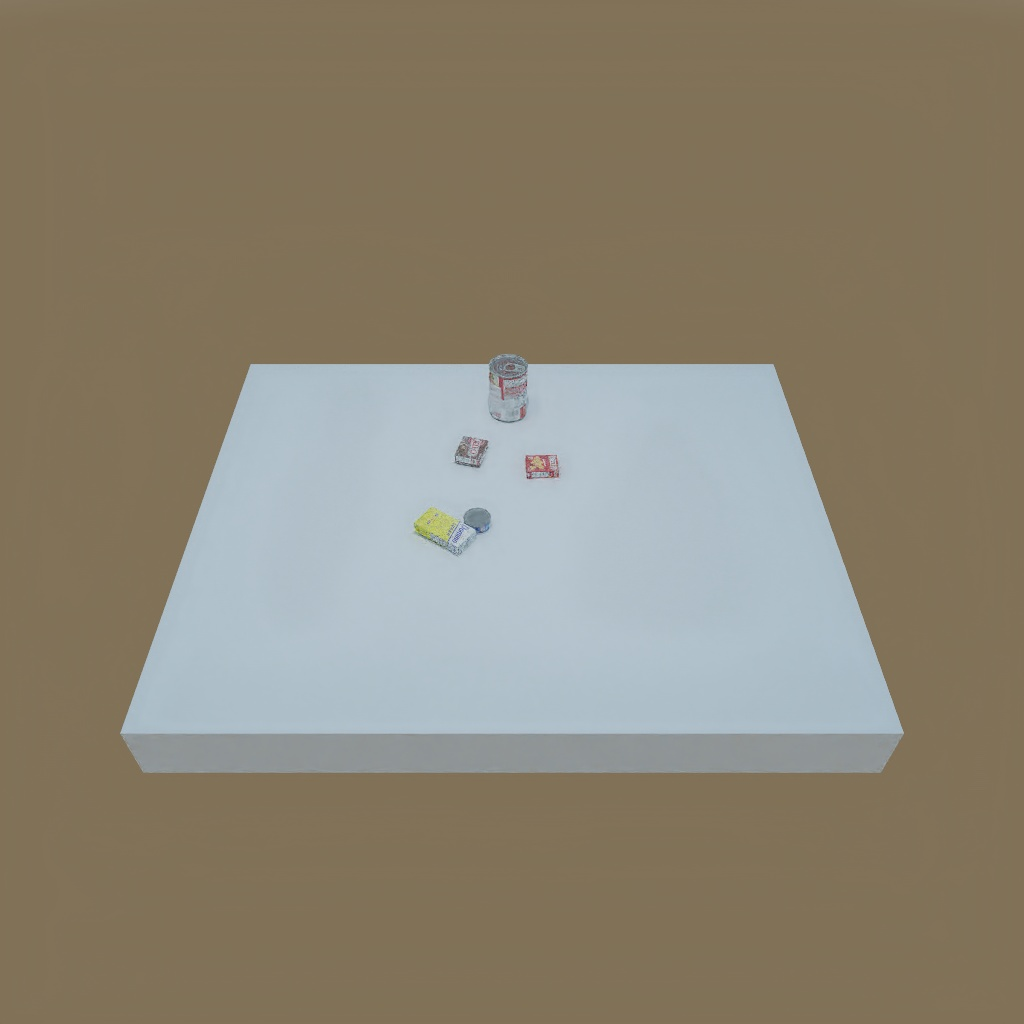pudding_box: (450, 431, 492, 471)
tomato_soup_can: (482, 355, 531, 422)
